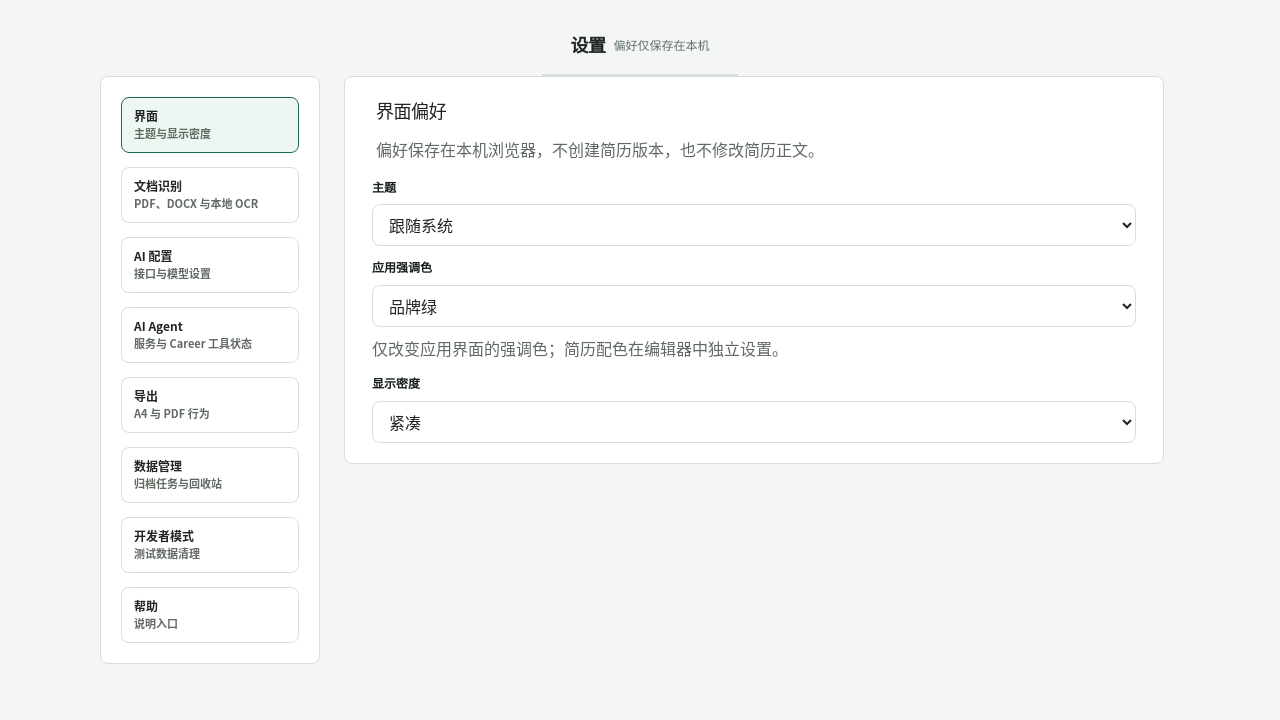
Scenario: P4.6d AI runtime control plane › shows only the compact AI configuration and moves protocol/maintenance into More
This screenshot has width=1280, height=720.
What coordinates should you click on to do the following:
click the button "AI 配置 接口与模型设置"
I would click on:
 (210, 265)
Its box is [121, 237, 299, 293].
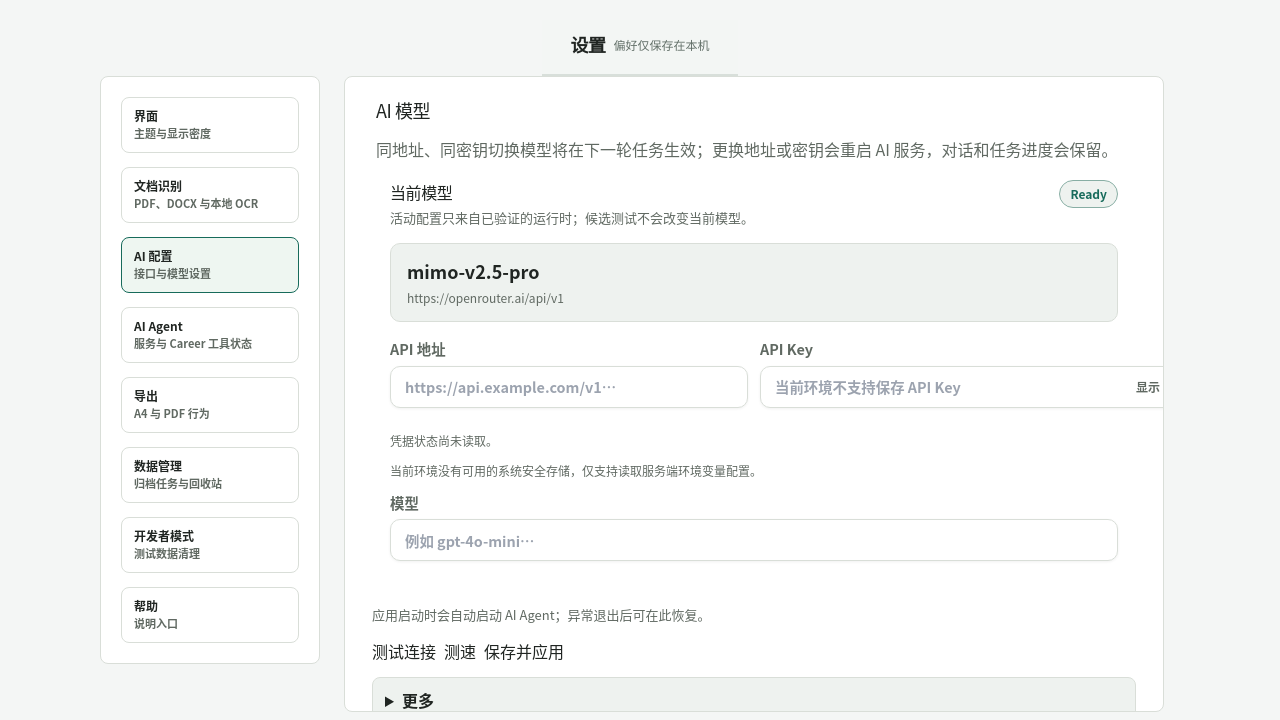
Expected: the text "mimo-v2.5-pro" is shown, [407, 258, 540, 284]
Expected: the field labelled "模型" is shown, [390, 519, 1118, 561]
What coordinates should you click on to do the following:
click the heading "更多"
I would click on:
 (418, 700)
Its box is [402, 688, 434, 712].
(page scrolled)
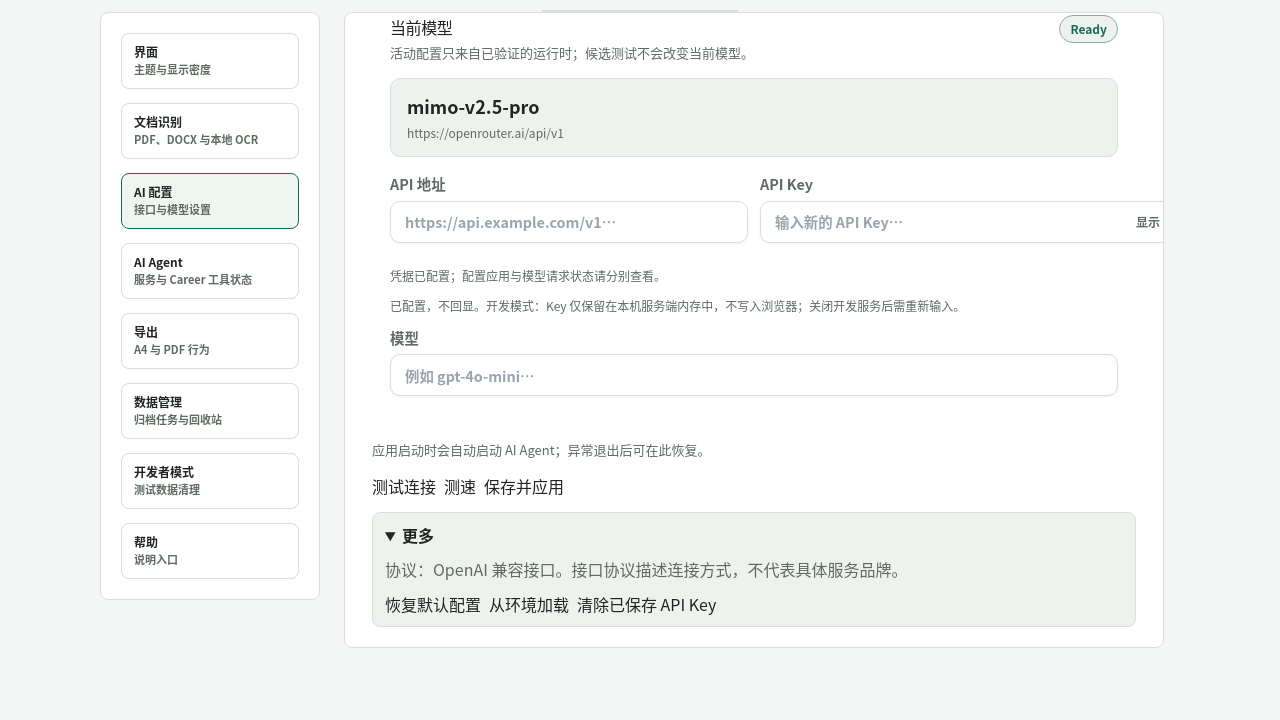
Expected: the text "协议：OpenAI 兼容接口。接口协议描述连接方式，不代表具体服务品牌。" is shown, [385, 557, 907, 581]
Expected: the button "恢复默认配置" is shown, [385, 592, 481, 616]
Expected: the button "从环境加载" is shown, [489, 592, 569, 616]
